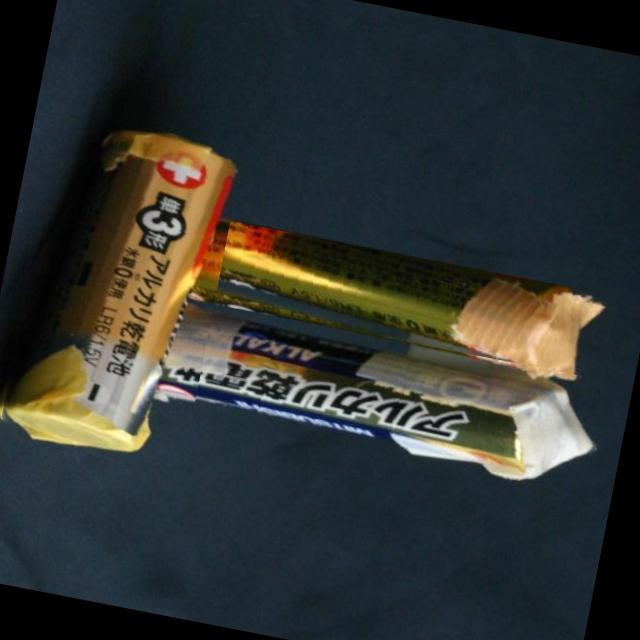Hazard: (138, 294, 612, 498), (0, 110, 243, 472), (176, 215, 610, 392)
